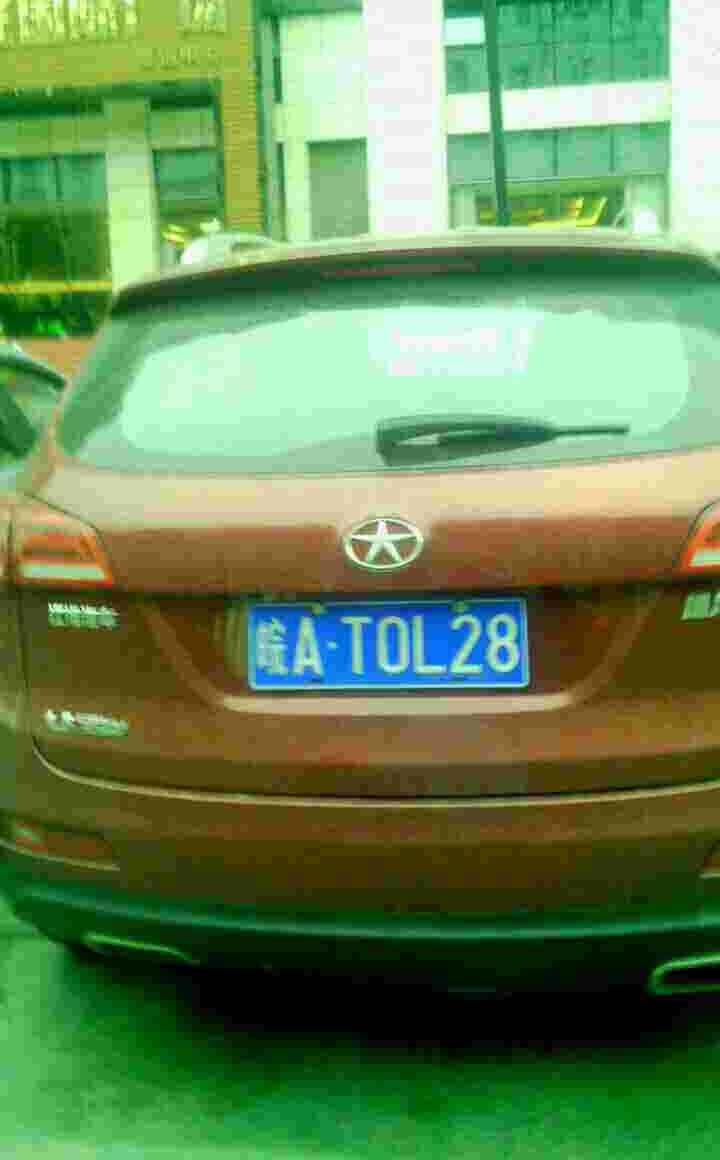license_plate: (252, 609, 533, 694)
